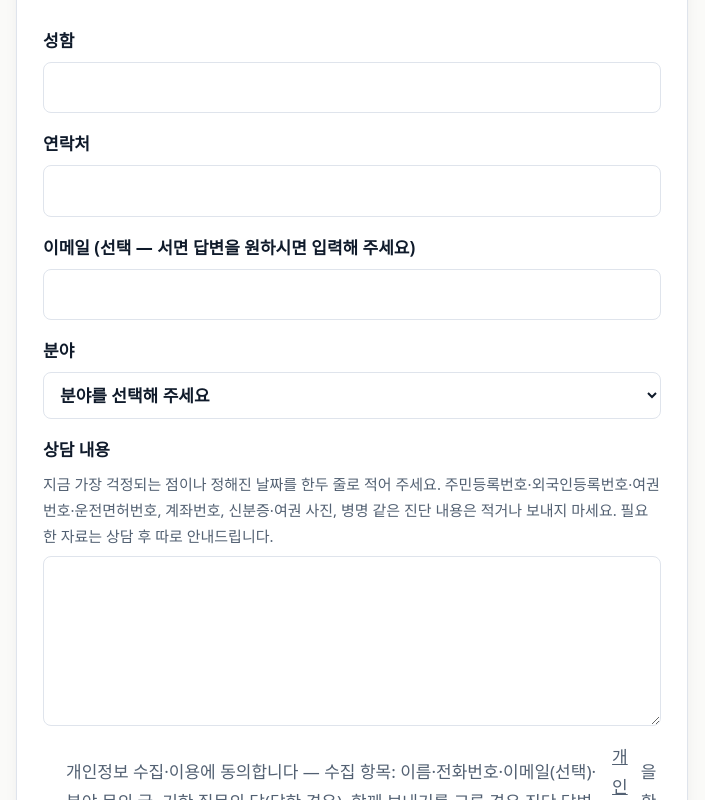
상담 폼 제출 (개업 후 상태 모킹) › 비자가 아닌 분야를 고르면 기한 질문(선택)을 보여 주고, 비자 분야와 분야 미선택이면 숨긴다
(page scrolled)
Expected: the element "처분서·통지서에 적힌 기한" is not shown
Select "인허가" in the dropdown labelled "분야" at (352, 396), box [43,372,661,419]
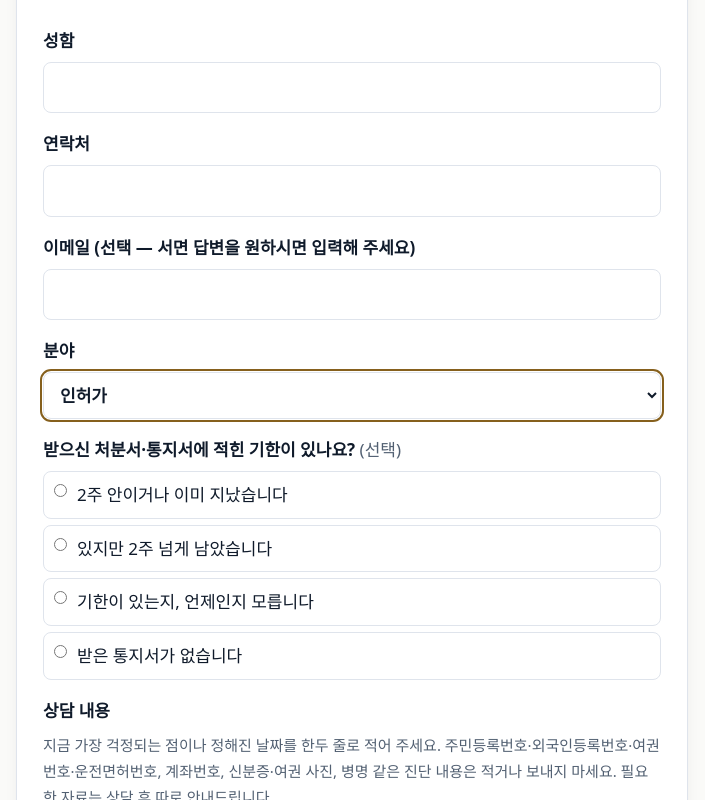
Result: the element "처분서·통지서에 적힌 기한" shows "(선택)" at [355,438,401,461]
Result: the radio button labelled "2주 안이거나 이미 지났습니다" is not checked at [54,484,67,497]
Result: the radio button labelled "있지만 2주 넘게 남았습니다" is not checked at [54,538,67,551]
Select "출입국 · 비자" in the dropdown labelled "분야" at (352, 396), box [43,372,661,419]
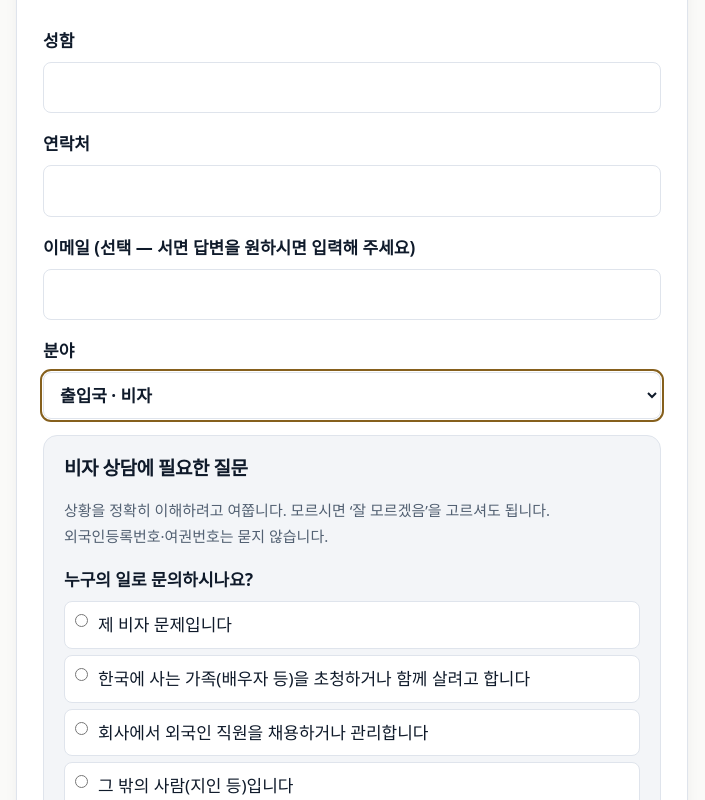
Result: the element "처분서·통지서에 적힌 기한" is gone
